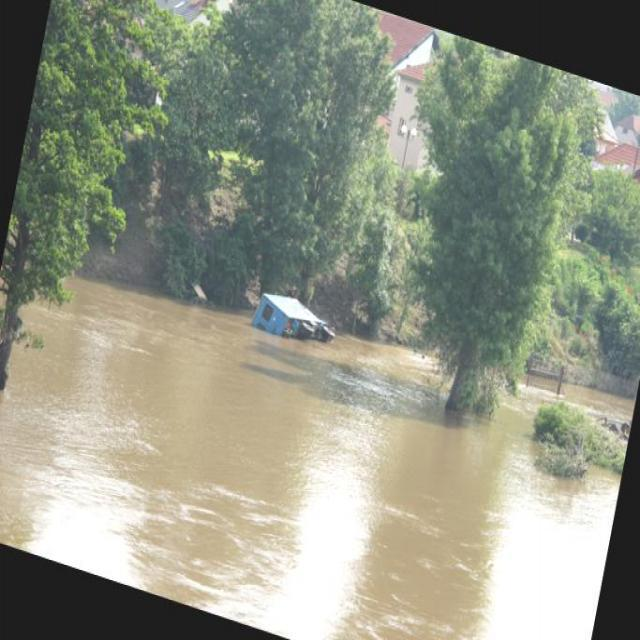flood: (0, 226, 630, 639)
